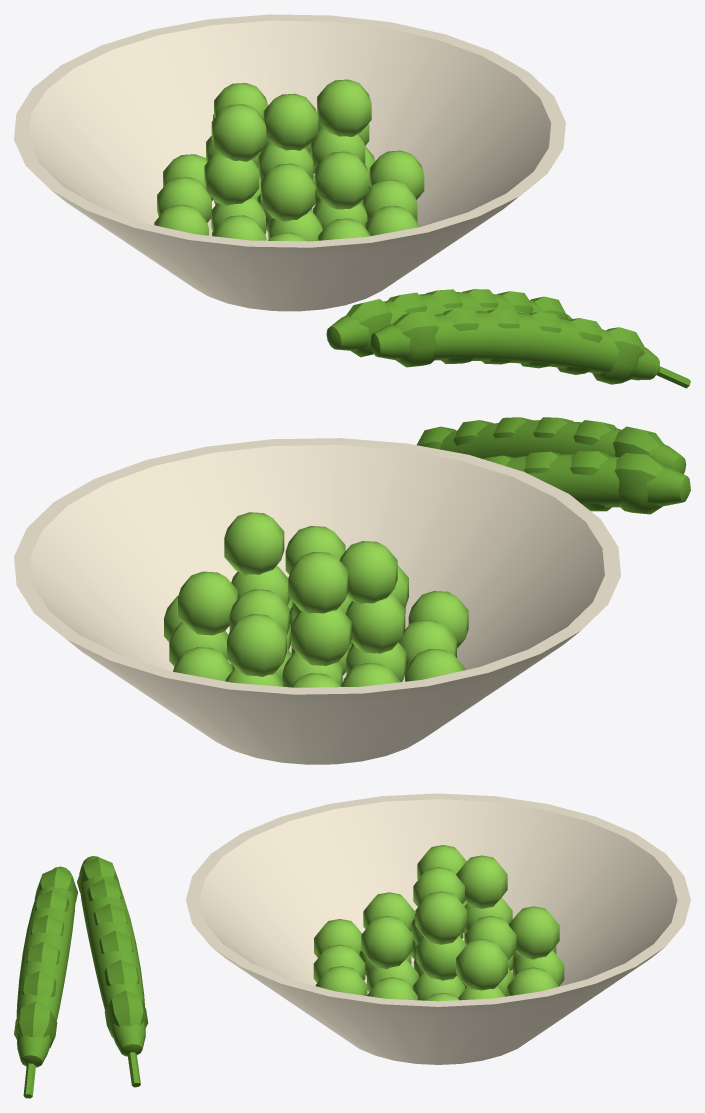
The model's file is Peas.fbx.
3 renders of one model, top to bottom at view 1: azimuth 30°, elevation 25°; view 2: azimuth 150°, elevation 25°; view 3: azimuth 270°, elevation 25°, orthographic. The views are drawn at different scales.
Parts seen in each view (by area): view 1: Peas; view 2: Peas; view 3: Peas.
Part boxes in pixels (x1=…): Peas: x1=14, y1=14, x2=690, y2=388; Peas: x1=14, y1=417, x2=690, y2=764; Peas: x1=14, y1=793, x2=690, y2=1098.
Bounding box in the file's own units: 0.195 × 0.0655 × 0.2613.
